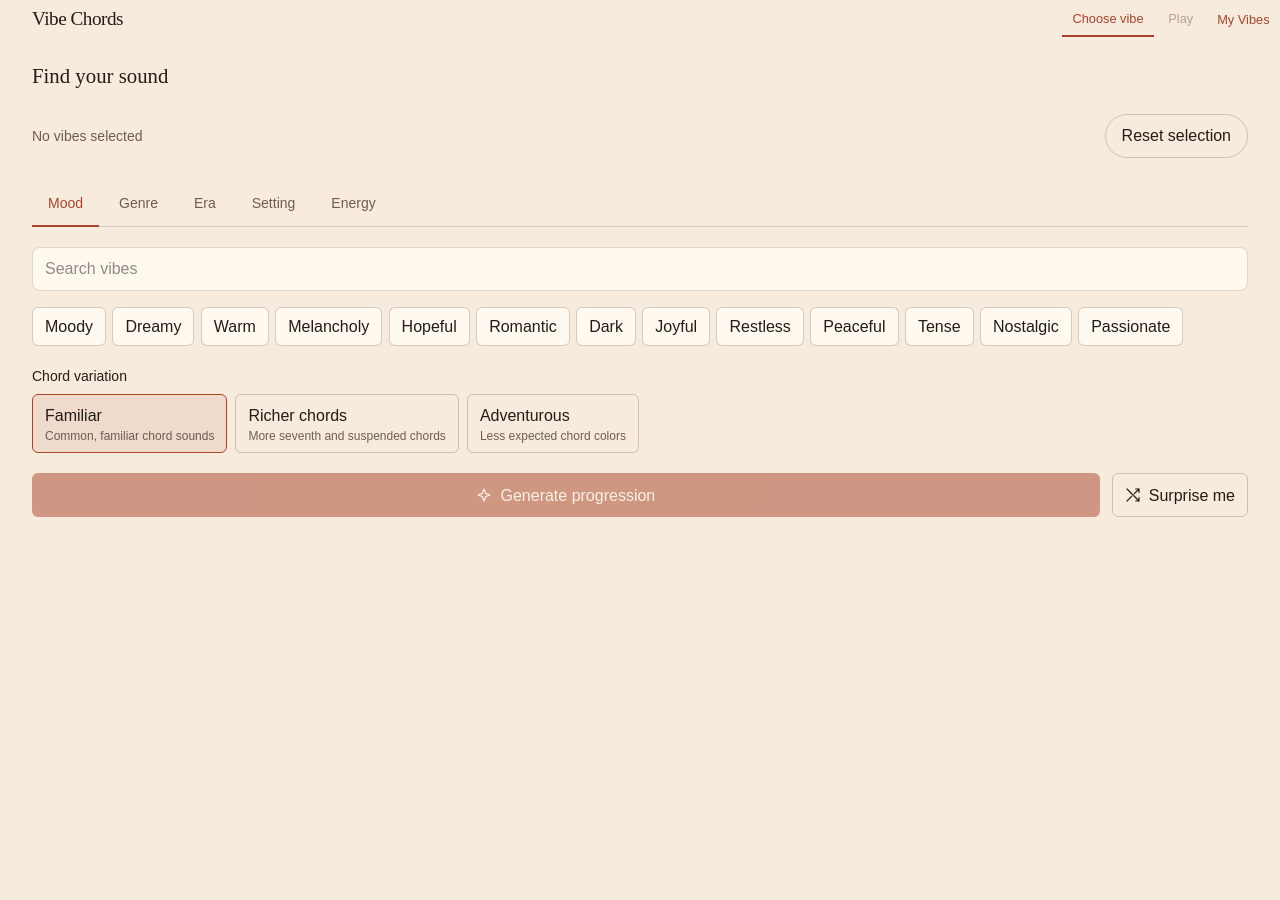
Test case: Reset clears the selection and a generation error
Click the button "Moody".
click(69, 326)  # box [32,307,106,346]
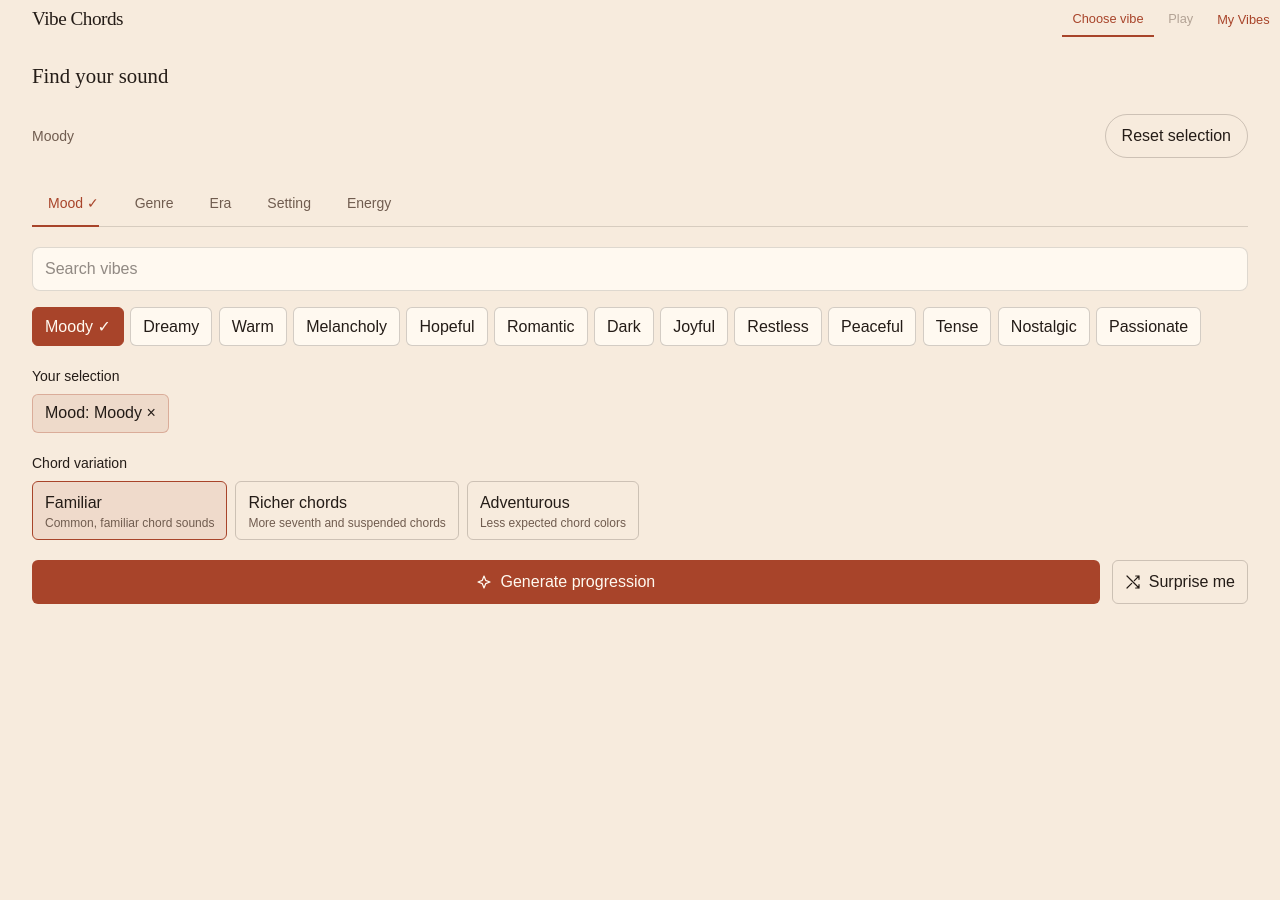
Click the button "Generate progression".
click(566, 582)  # box [32,560,1100,604]
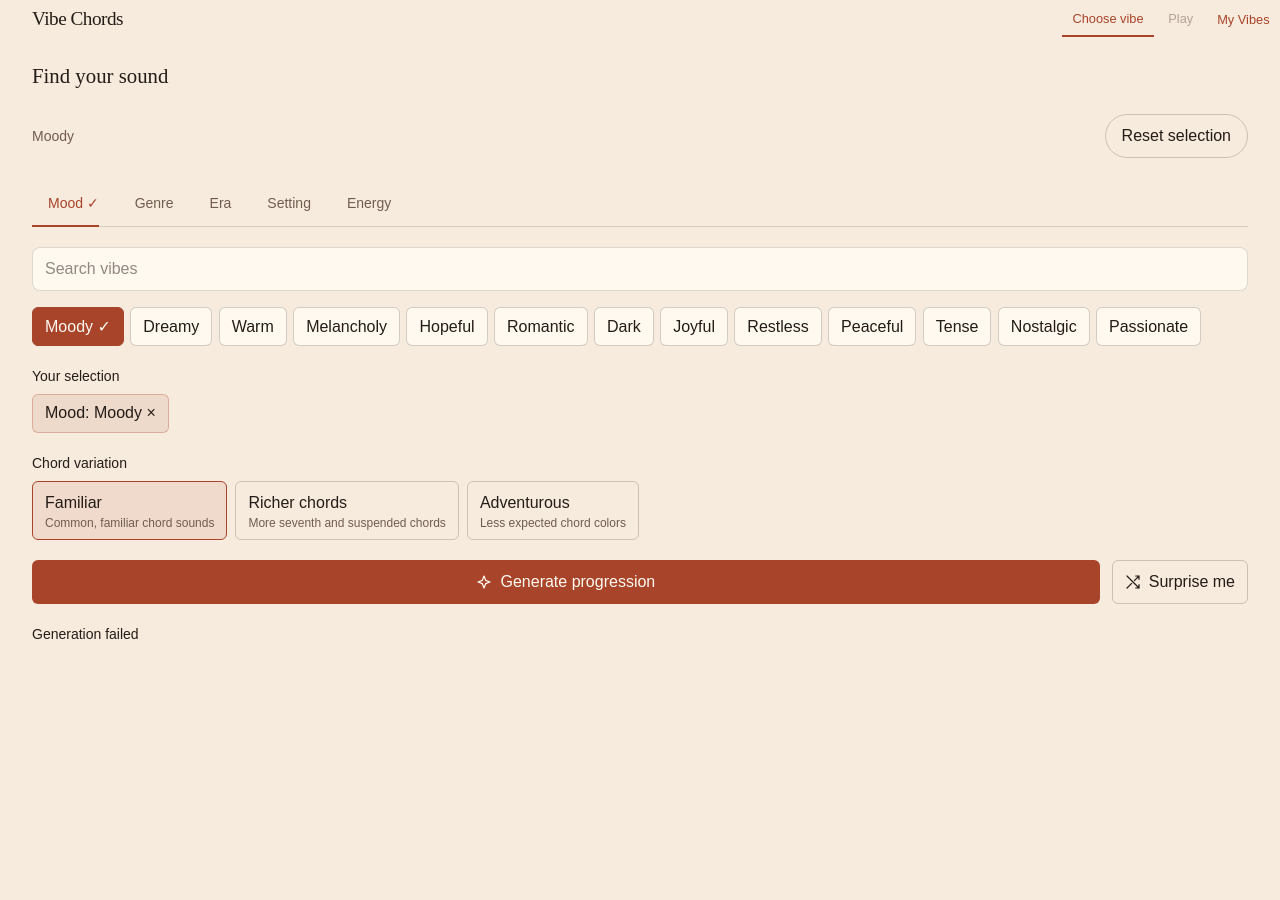
Check: the message "Generation failed" is shown, box [32,626,139,642]
Click the button "Reset selection".
click(1176, 136)  # box [1105,114,1248,158]
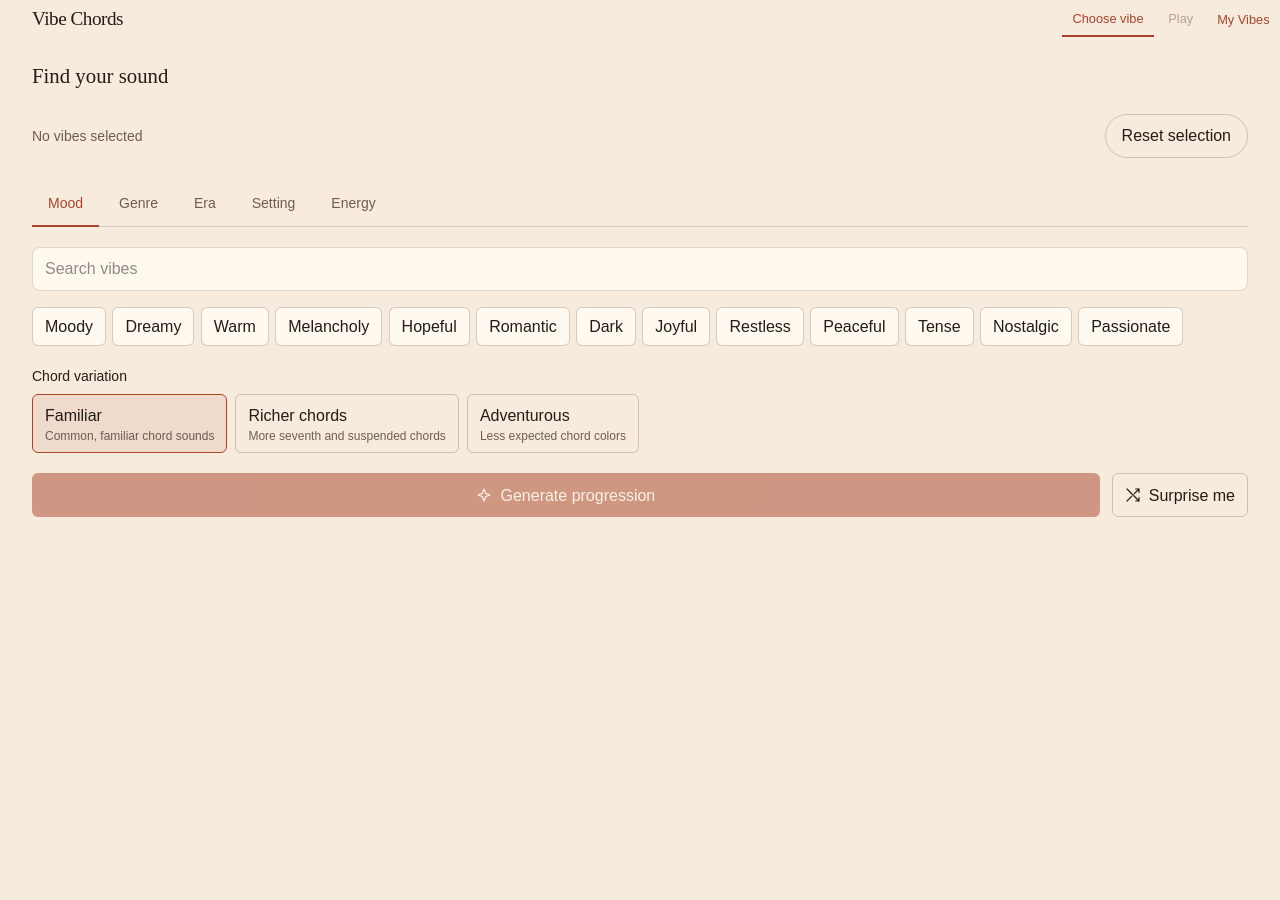
Check: the message "Your selection Mood: Moody ×" is gone
Check: the button "Generate progression" is disabled, box [32,474,1100,518]
